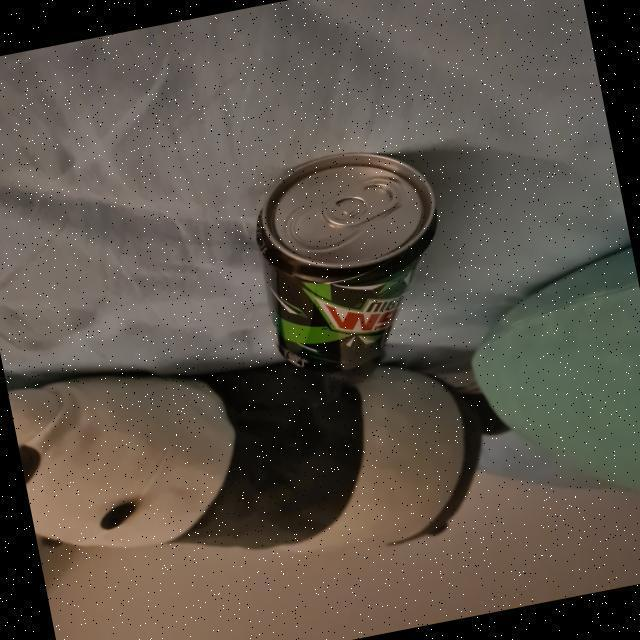can: (232, 140, 478, 392)
